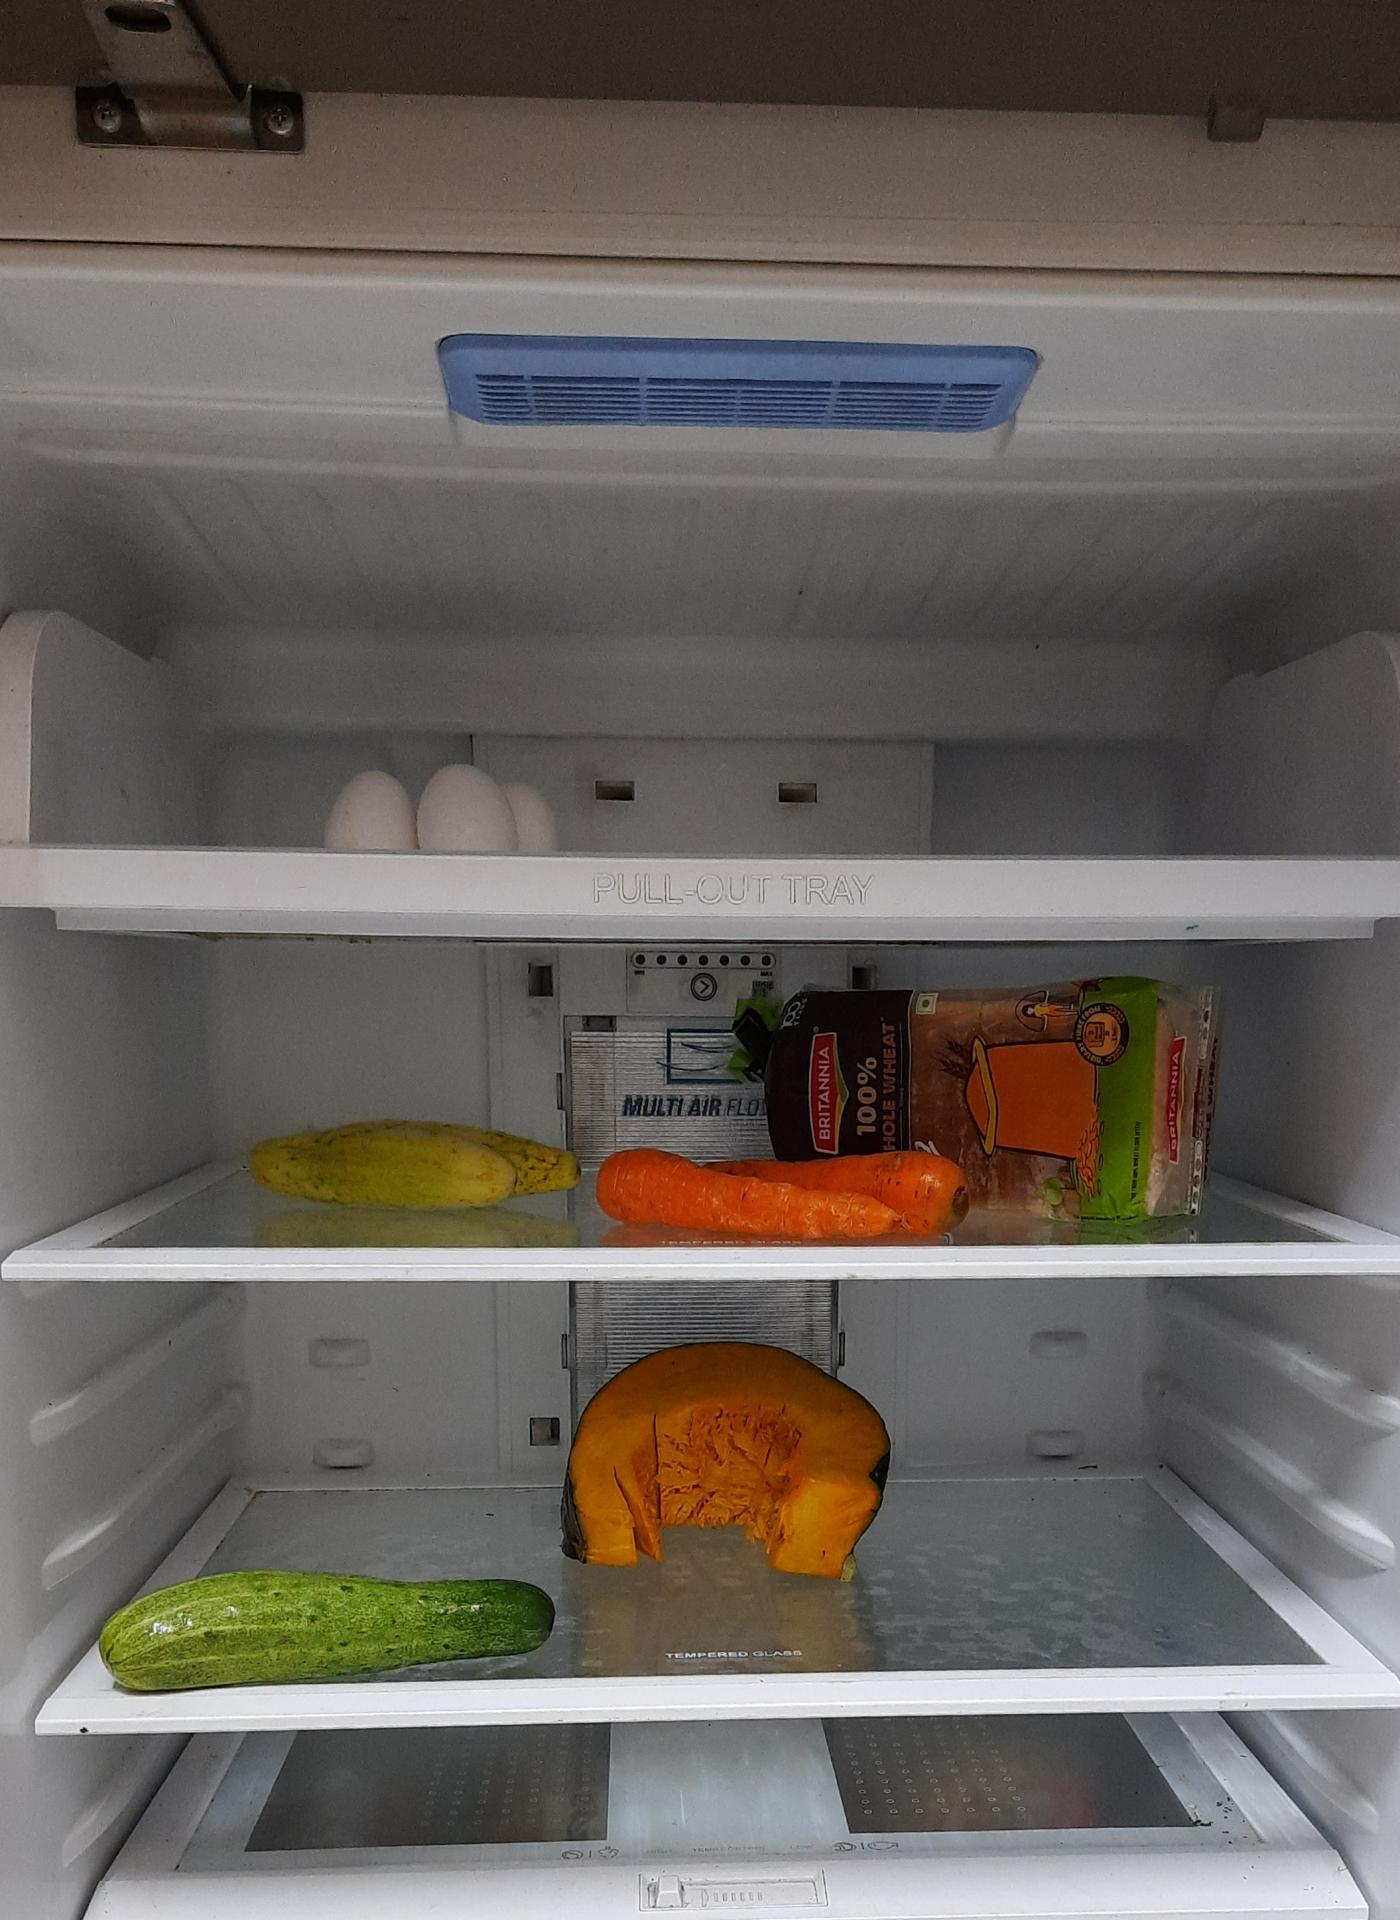bread: (753, 969, 1221, 1216)
carrots: (598, 1137, 968, 1230)
cucumber: (92, 1568, 564, 1701), (234, 1120, 581, 1215)
egg: (325, 759, 559, 862)
pumpkin: (559, 1342, 896, 1582)
